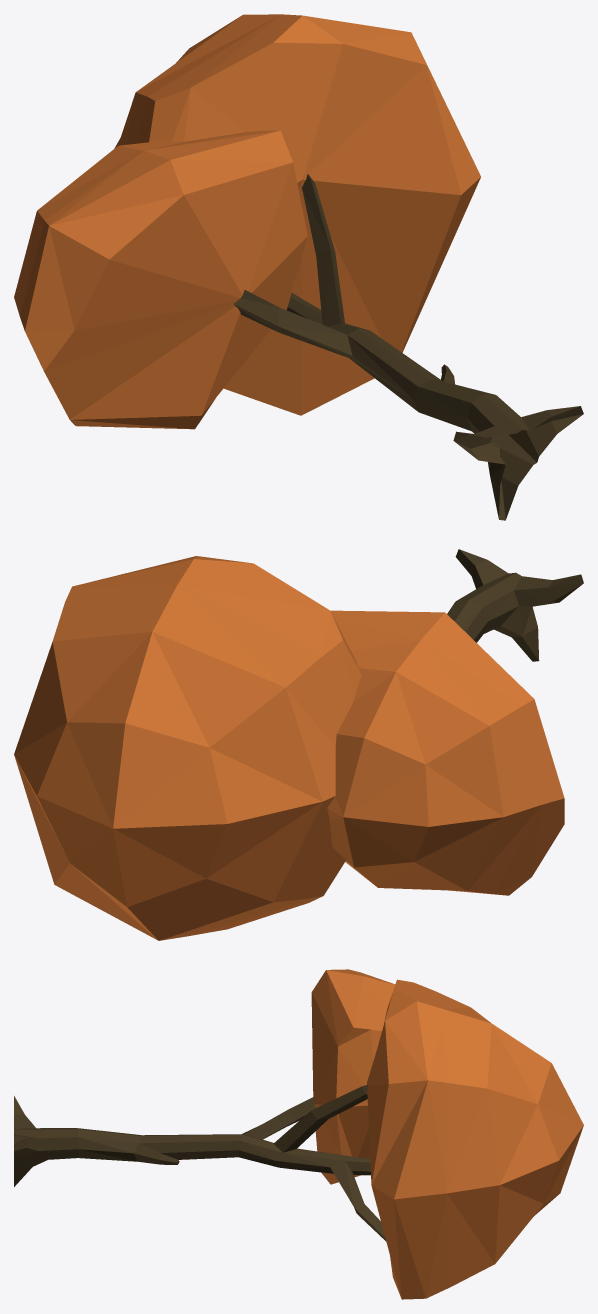
Rendered from Tree 02.FBX.
3 renders of one model, top to bottom at view 1: azimuth 30°, elevation 25°; view 2: azimuth 150°, elevation 25°; view 3: azimuth 270°, elevation 25°, orthographic. The views are drawn at different scales.
Visible parts, largest first — view 1: Tree 02; view 2: Tree 02; view 3: Tree 02.
Boxes of the visible parts, left/top/right/bottom form: Tree 02: left=14, top=14, right=583, bottom=520; Tree 02: left=14, top=549, right=583, bottom=940; Tree 02: left=14, top=969, right=583, bottom=1299.
Bounding box in the file's own units: 533 × 729 × 399.
